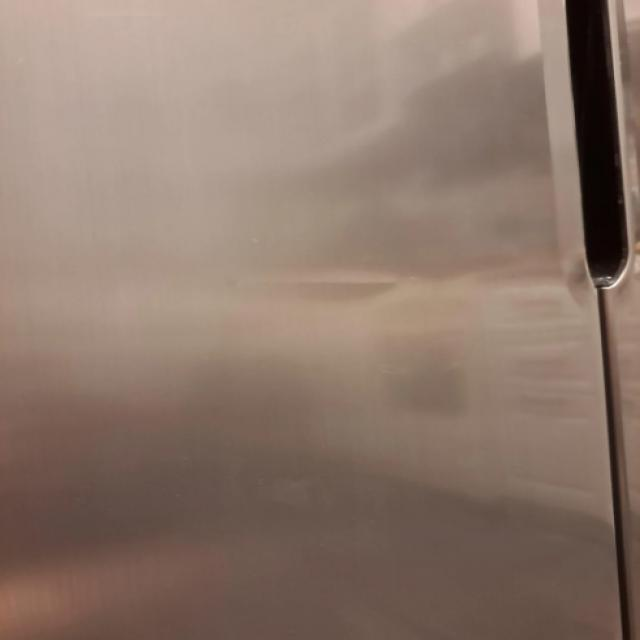dents: (258, 243, 429, 328)
